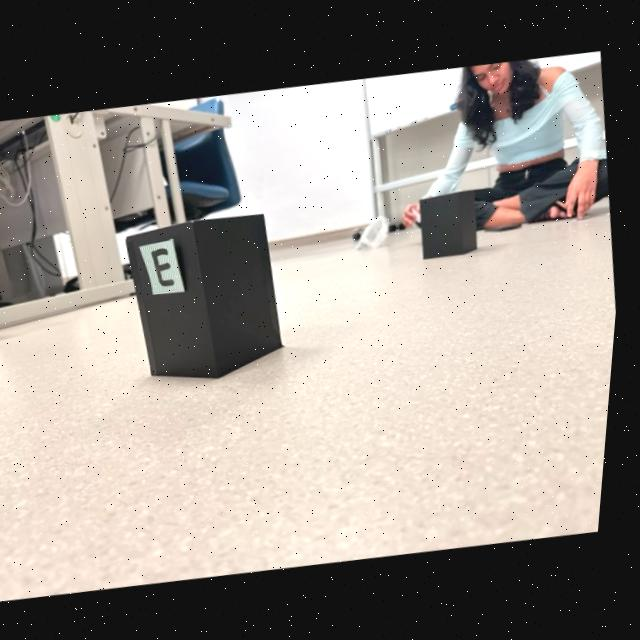E: (156, 248, 179, 285)
